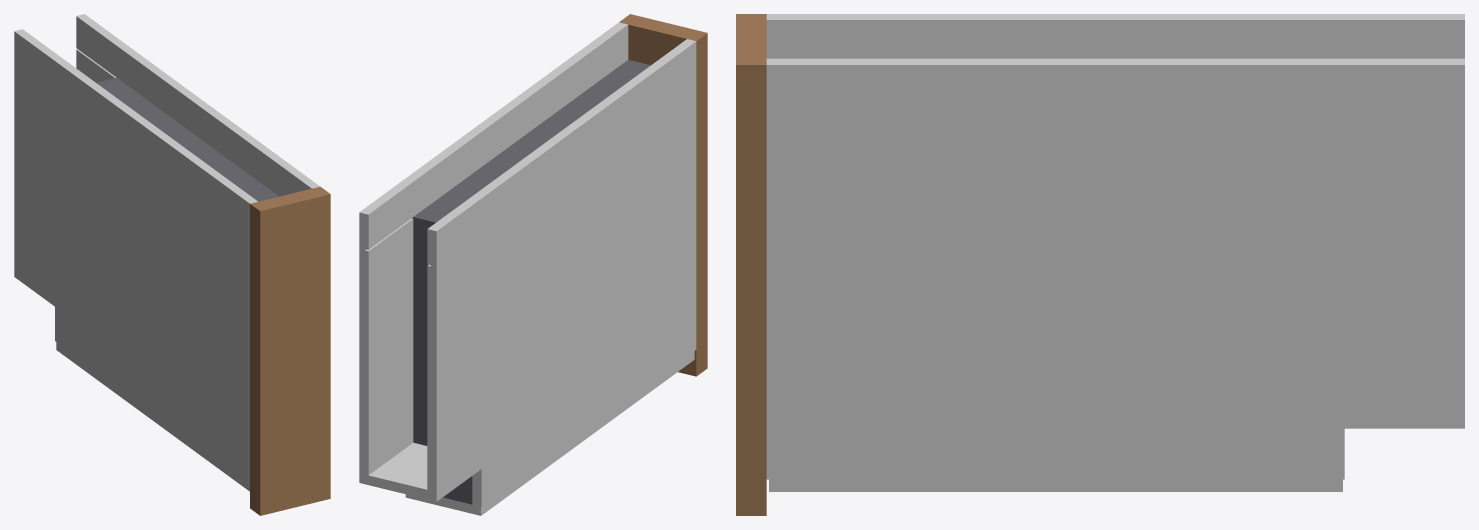
The model's file is Kitchen Cabinets_15CM Highline Cabinet (4).obj.
3 renders of one model, left to right at view 1: azimuth 30°, elevation 25°; view 2: azimuth 150°, elevation 25°; view 3: azimuth 270°, elevation 25°, orthographic. The views are drawn at different scales.
Visible parts, largest first — view 1: LH_Panel_(7), Worktop_(7), RH_Panel_(7), BackPanel_(7), Door_(7), Plinth_(7); view 2: LH_Panel_(7), RH_Panel_(7), Worktop_(7), BackPanel_(7), Bottom_Shelf_(7), Plinth_(7), Door_(7); view 3: RH_Panel_(7), LH_Panel_(7), Worktop_(7), Door_(7), Plinth_(7).
Boxes of the visible parts, left/top/right/bottom form: LH_Panel_(7): left=14, top=29, right=257, bottom=483; Worktop_(7): left=250, top=186, right=330, bottom=515; RH_Panel_(7): left=76, top=14, right=319, bottom=196; BackPanel_(7): left=96, top=78, right=278, bottom=201; Door_(7): left=56, top=342, right=249, bottom=491; Plinth_(7): left=14, top=268, right=54, bottom=306; LH_Panel_(7): left=427, top=39, right=696, bottom=506; RH_Panel_(7): left=359, top=22, right=628, bottom=475; Worktop_(7): left=619, top=14, right=707, bottom=376; BackPanel_(7): left=412, top=59, right=650, bottom=223; Bottom_Shelf_(7): left=413, top=218, right=472, bottom=504; Plinth_(7): left=359, top=442, right=481, bottom=501; Door_(7): left=405, top=351, right=694, bottom=515; RH_Panel_(7): left=766, top=58, right=1464, bottom=479; LH_Panel_(7): left=766, top=14, right=1464, bottom=58; Worktop_(7): left=736, top=14, right=766, bottom=515; Door_(7): left=769, top=479, right=1342, bottom=491; Plinth_(7): left=1344, top=415, right=1464, bottom=428.
Bounding box in the file's own units: 0.15 × 0.62 × 0.908.
